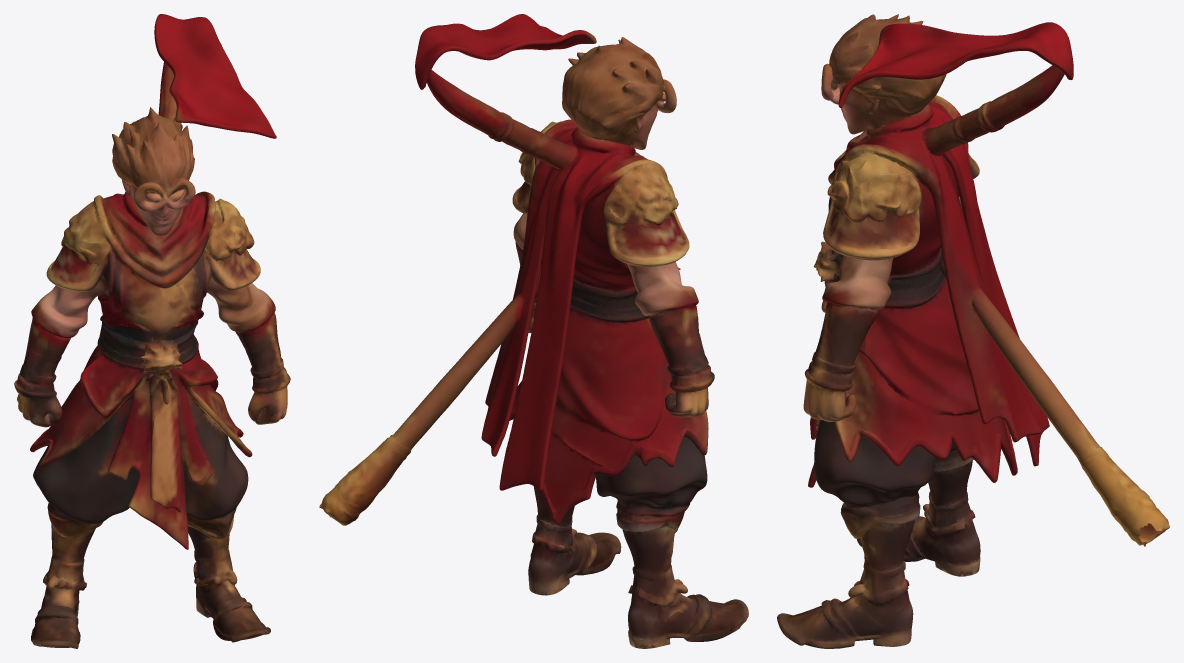
The model's file is Sun_Wukong_Hero_PBR.fbx.
The picture shows the model from 3 angles, left to right: view 1: azimuth 30°, elevation 25°; view 2: azimuth 150°, elevation 25°; view 3: azimuth 270°, elevation 25°; orthographic projection. The views are drawn at different scales.
Parts seen in each view (by area): view 1: Sun_Wukong_Hero_PBR; view 2: Sun_Wukong_Hero_PBR; view 3: Sun_Wukong_Hero_PBR.
Part boxes in pixels (x1=…): Sun_Wukong_Hero_PBR: x1=14, y1=14, x2=290, y2=648; Sun_Wukong_Hero_PBR: x1=319, y1=14, x2=748, y2=648; Sun_Wukong_Hero_PBR: x1=777, y1=14, x2=1169, y2=648.
Bounding box in the file's own units: 0.9359 × 1.8 × 1.02.
Materials: 1 (1 with a texture image).
